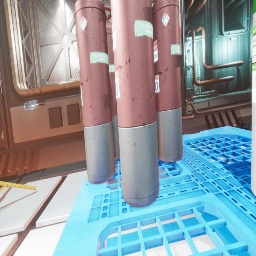0: (251, 0, 256, 197)
FireAlarm ,: (180, 26, 181, 40)
NitrogenTank ,: (110, 0, 160, 208), (74, 0, 115, 184), (152, 0, 183, 162), (104, 5, 120, 160)
